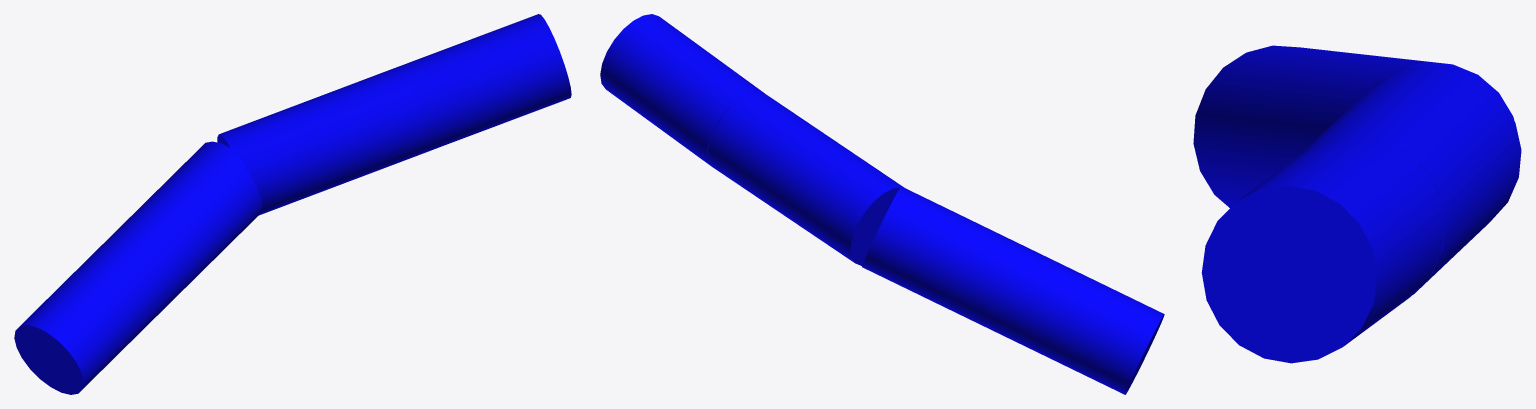
The picture shows the model from 3 angles, left to right: view 1: azimuth 30°, elevation 25°; view 2: azimuth 150°, elevation 25°; view 3: azimuth 270°, elevation 25°; orthographic projection. The views are drawn at different scales.
Visible parts, largest first — view 1: Cylinder(Clone) (×3); view 2: Cylinder(Clone) (×3); view 3: Cylinder(Clone) (×3).
Part boxes in pixels (x1=…): Cylinder(Clone) (×3): x1=14, y1=14, x2=571, y2=394; Cylinder(Clone) (×3): x1=600, y1=14, x2=1164, y2=394; Cylinder(Clone) (×3): x1=1193, y1=45, x2=1521, y2=363.
Bounding box in the file's own units: 0.0691 × 0.0313 × 0.0182.
